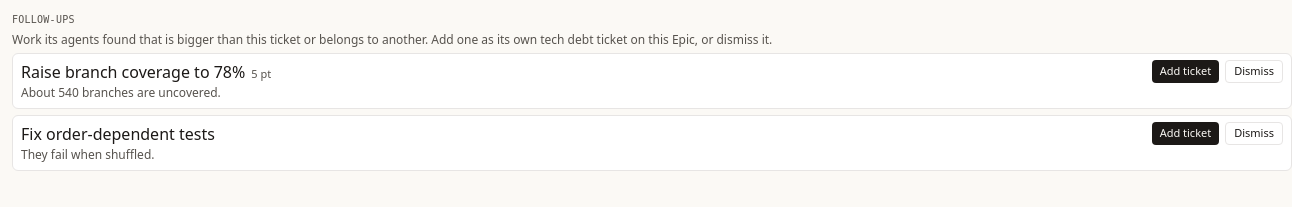
it: a ticket's follow-ups › says why when it cannot
The width and height of the screenshot is (1292, 207).
Click the button "Add ticket" in the row of "pt": (1185, 71) [1152, 60, 1219, 82]
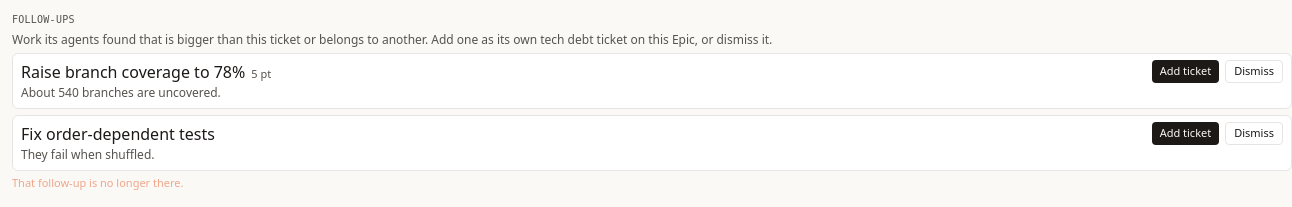
Result: the message reads "That follow-up is no longer there." at [12, 175, 184, 190]
